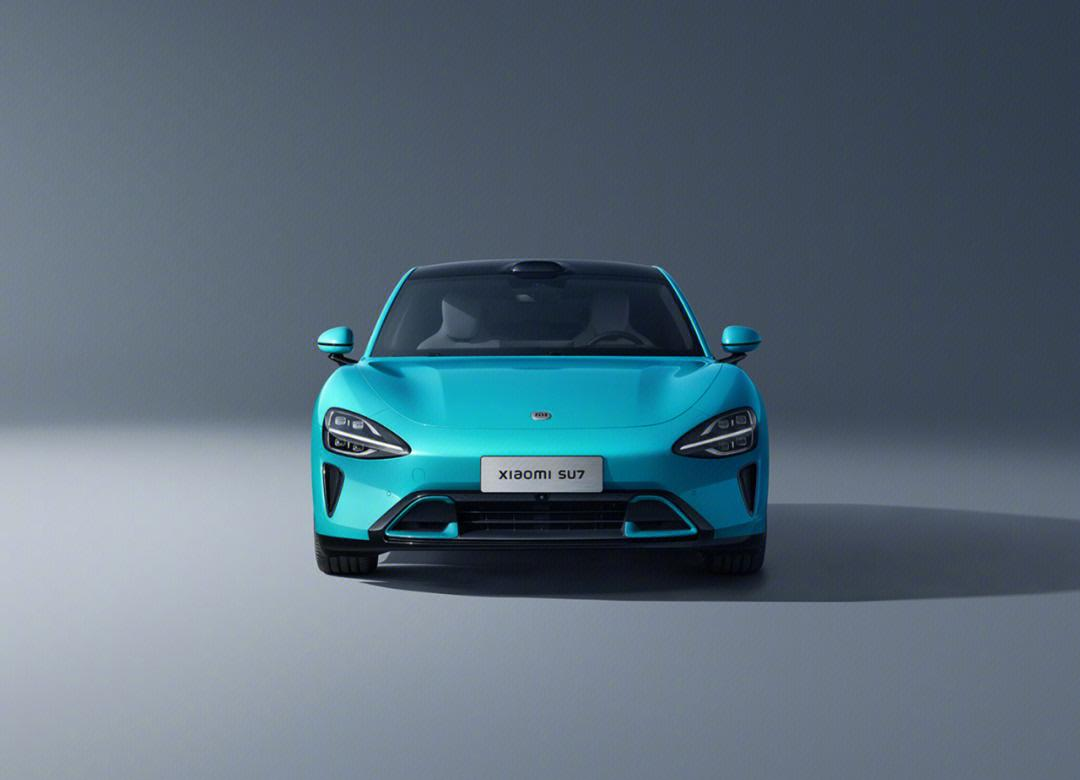su7: (315, 259, 780, 600)
